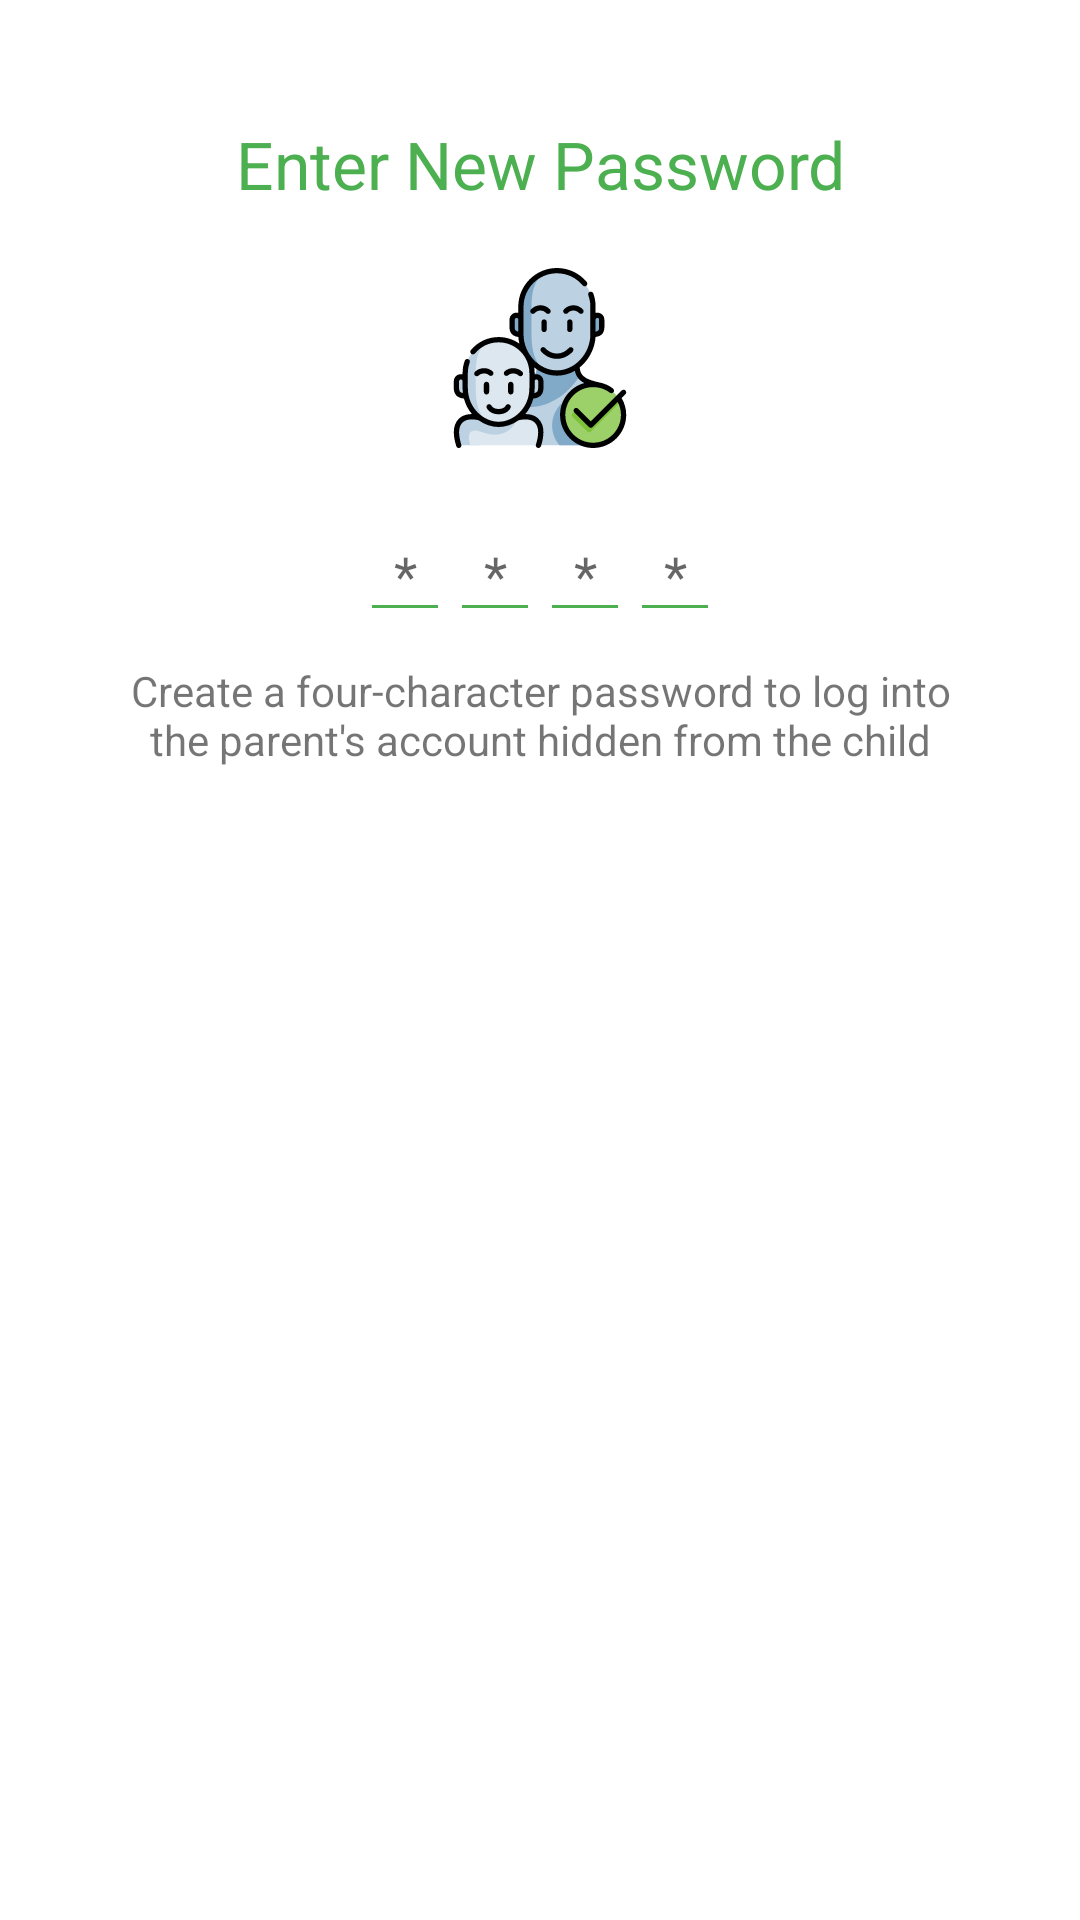

Where to tap for icons on this 1080px x 1920px app screen, as [x,y]:
parental control: [540,358]
